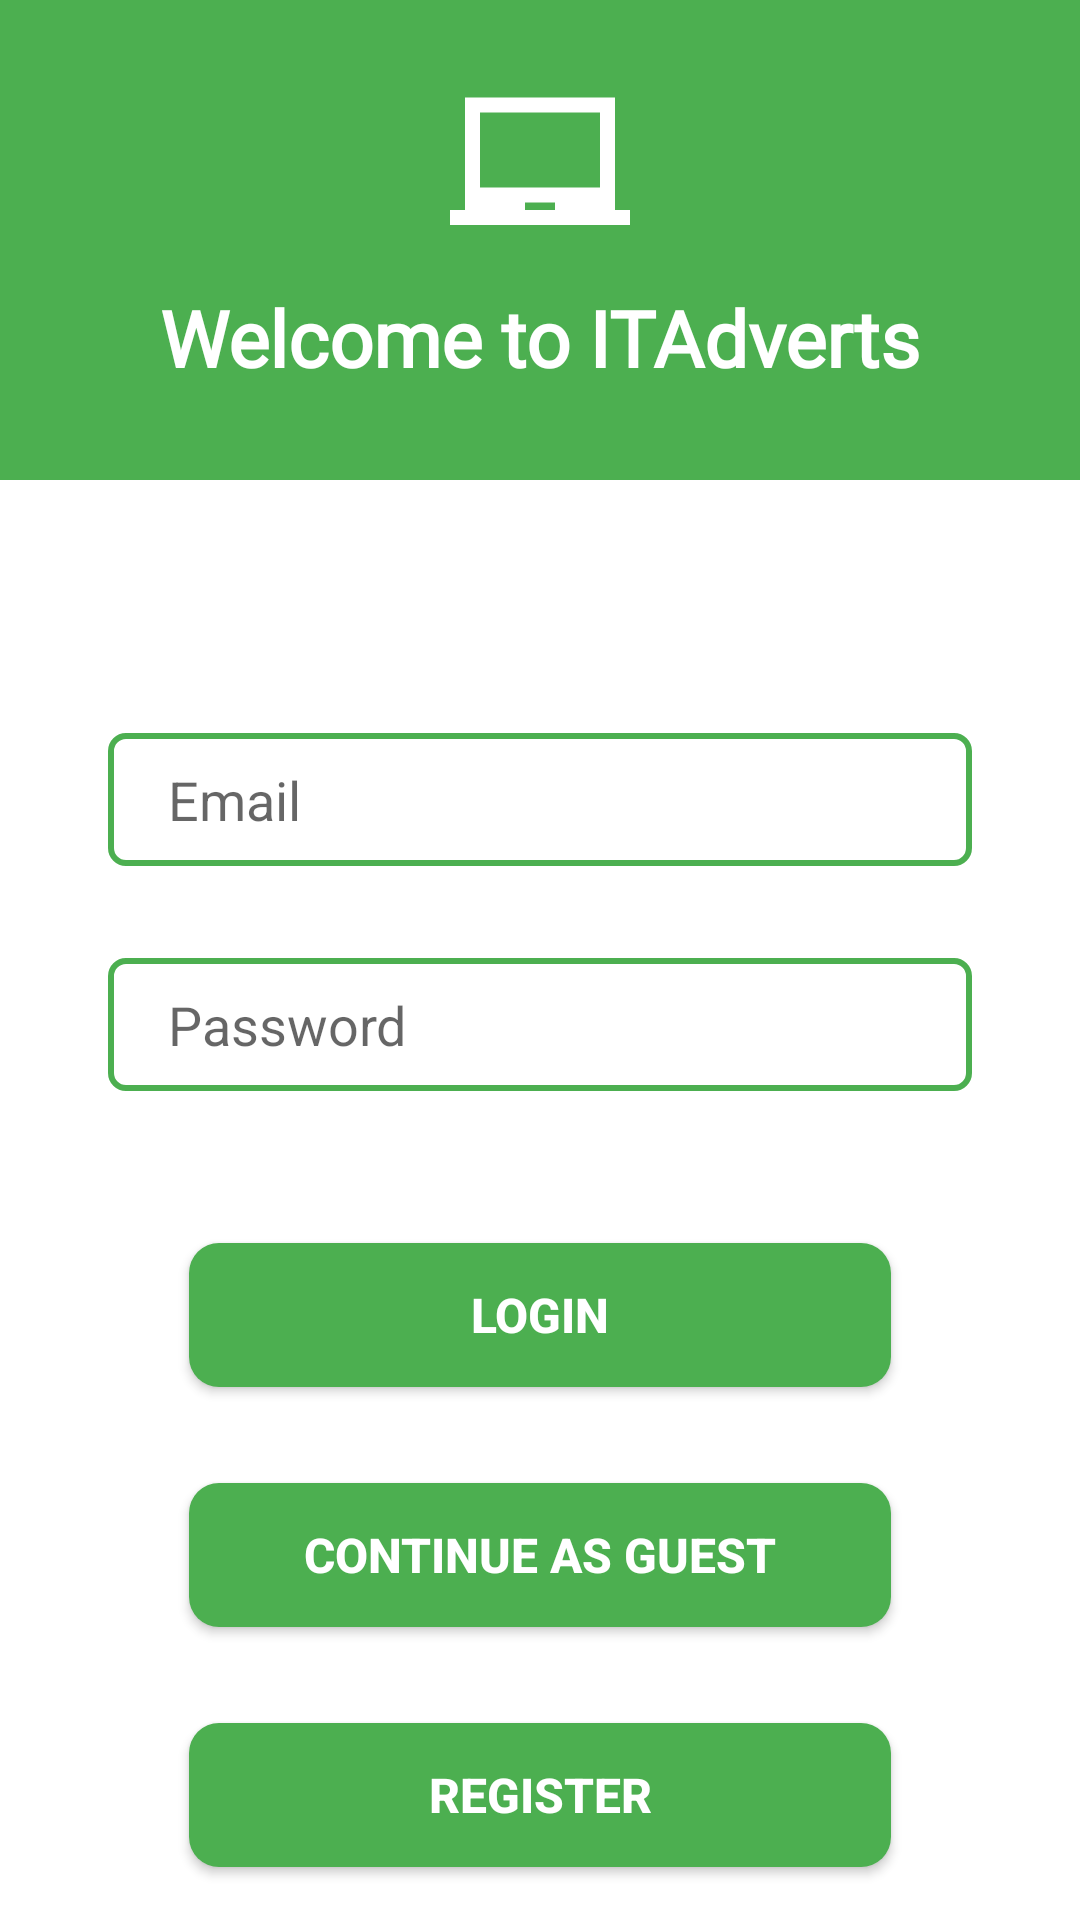

Named icons in this screenshot (1080x1920) and their bounding boxes, rect(x1, y1, x2, y2):
laptop chromebook: rect(450, 97, 630, 225)
